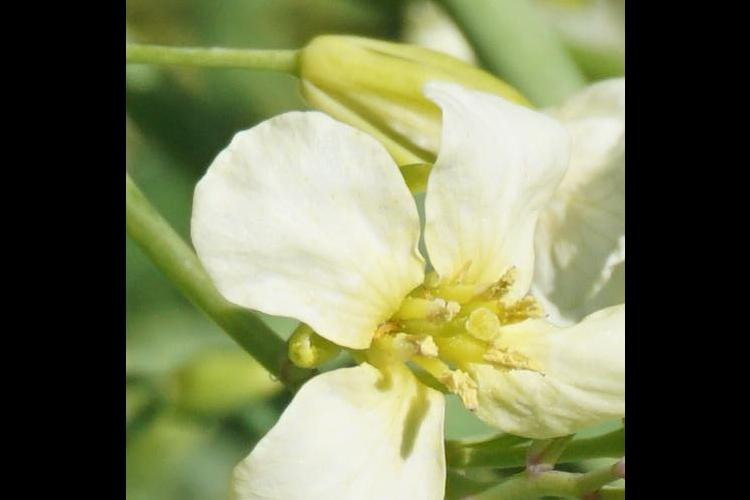white: (206, 100, 622, 500)
